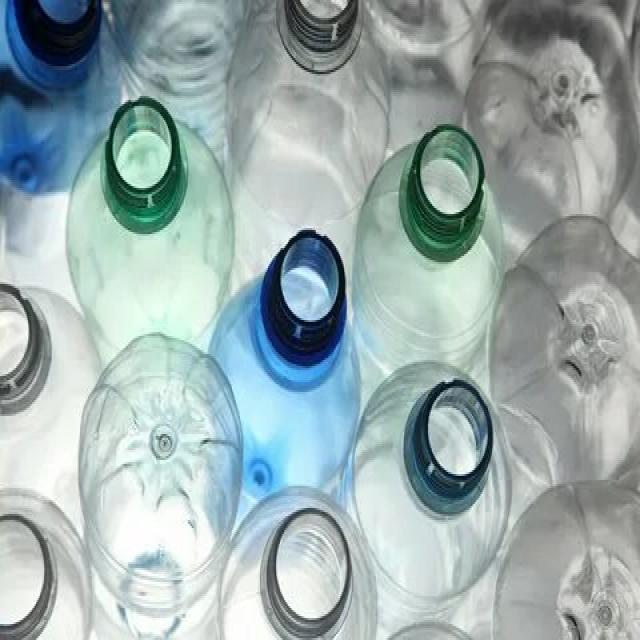blue: (208, 235, 361, 503)
green: (67, 102, 233, 350), (353, 127, 507, 375)
